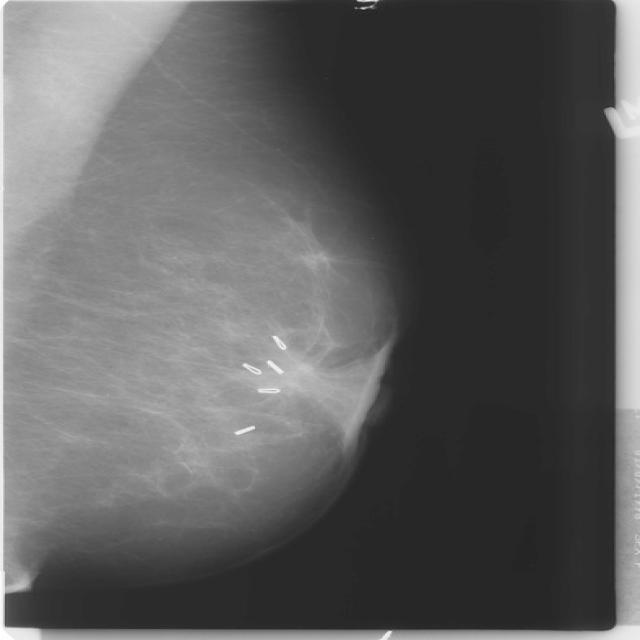tumour: (271, 349, 325, 398)
